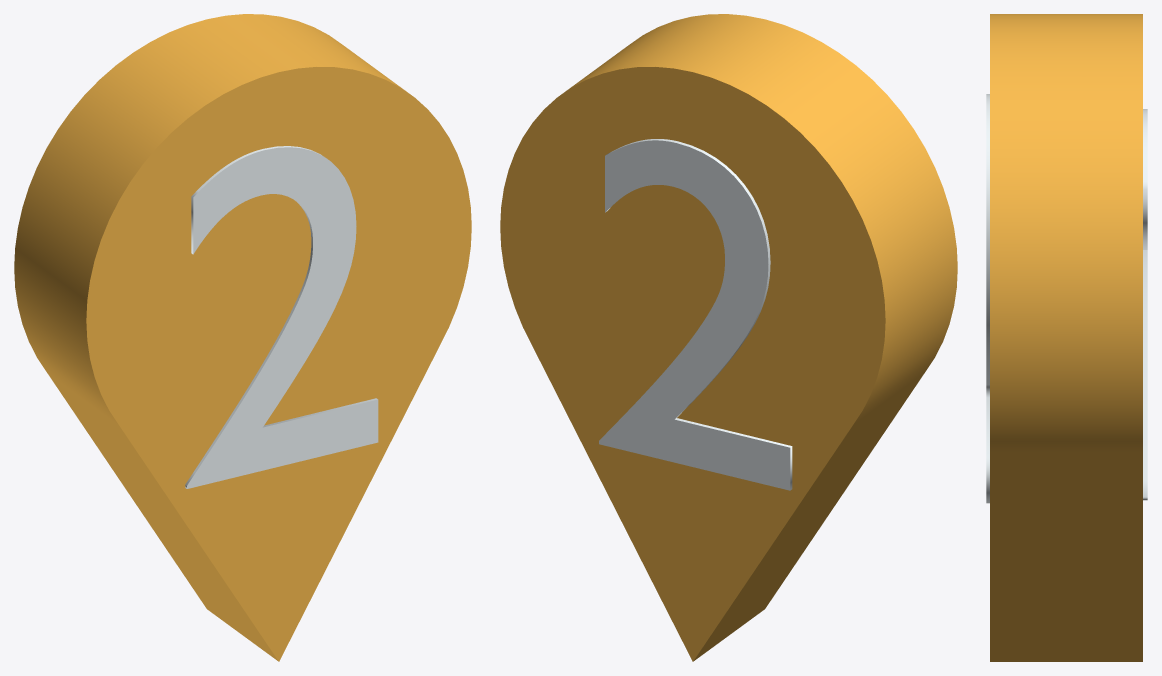
The model's file is densi_point_a.glb.
3 renders of one model, left to right at view 1: azimuth 30°, elevation 25°; view 2: azimuth 150°, elevation 25°; view 3: azimuth 270°, elevation 25°, orthographic. The views are drawn at different scales.
Parts seen in each view (by area): view 1: 円.001, テキスト.001; view 2: 円.001, テキスト.003; view 3: 円.001, テキスト.003, テキスト.001.
Part boxes in pixels (left/top/right/bottom): 円.001: left=14, top=14, right=471, bottom=661; テキスト.001: left=185, top=146, right=378, bottom=488; 円.001: left=500, top=14, right=957, bottom=661; テキスト.003: left=599, top=139, right=792, bottom=490; 円.001: left=990, top=14, right=1142, bottom=661; テキスト.003: left=1143, top=109, right=1147, bottom=500; テキスト.001: left=986, top=94, right=989, bottom=503.
Bounding box in the file's own units: 2 × 2.92 × 0.6844.
Materials: 3 (3 with a texture image).
